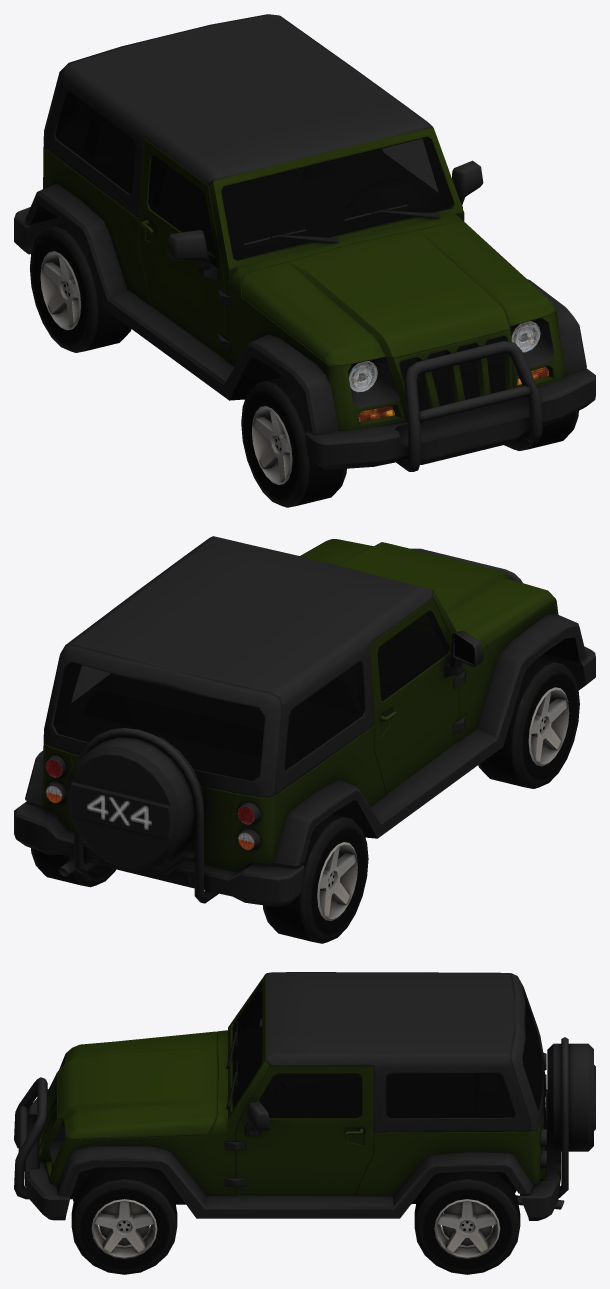
File: car_offroad.glb
The picture shows the model from 3 angles, top to bottom: view 1: azimuth 30°, elevation 25°; view 2: azimuth 150°, elevation 25°; view 3: azimuth 270°, elevation 25°; orthographic projection. The views are drawn at different scales.
Parts seen in each view (by area): view 1: Offroad_Body, Wheel_G001_Wheel_0_1, Wheel_G002, Wheel_G; view 2: Offroad_Body, Wheel_G001_Wheel_0_1, Wheel_G002, Wheel_G001; view 3: Offroad_Body, Wheel_G, Wheel_G001.
Part boxes in pixels (left/top/right/bottom): Offroad_Body: left=14, top=14, right=595, bottom=471; Wheel_G001_Wheel_0_1: left=241, top=376, right=346, bottom=507; Wheel_G002: left=30, top=223, right=131, bottom=352; Wheel_G: left=504, top=411, right=578, bottom=450; Offroad_Body: left=14, top=536, right=595, bottom=906; Wheel_G001_Wheel_0_1: left=478, top=658, right=579, bottom=788; Wheel_G002: left=263, top=814, right=368, bottom=943; Wheel_G001: left=31, top=848, right=116, bottom=887; Offroad_Body: left=14, top=972, right=595, bottom=1220; Wheel_G: left=71, top=1167, right=177, bottom=1274; Wheel_G001: left=414, top=1171, right=520, bottom=1274.
Size of the model in its own units: 1.96 by 1.57 by 3.94.
4 materials, 3 textured.
